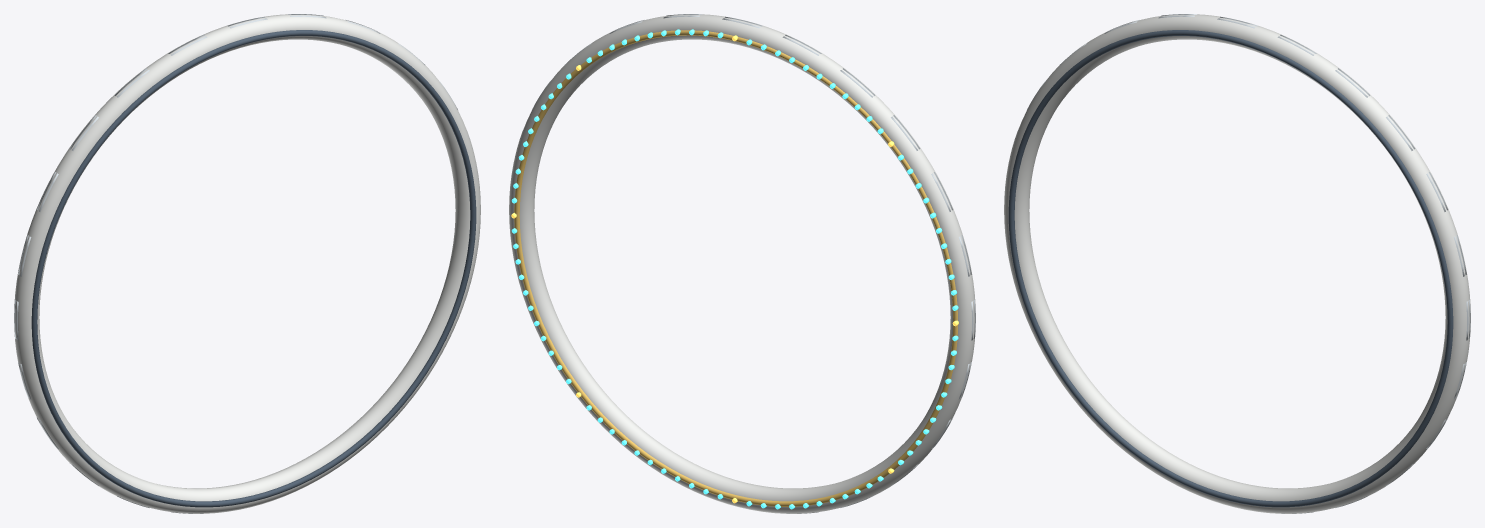
File: L87_02_RotatingHabitatRingMainRotor_Fitted.fbx
3 renders of one model, left to right at view 1: azimuth 30°, elevation 25°; view 2: azimuth 150°, elevation 25°; view 3: azimuth 330°, elevation 25°, orthographic.
Visible parts, largest first — view 1: L87_RotatingHabitatRingMainRotor_ANIM_GRAVITY_RING_MAIN_ROTA (×3); view 2: L87_RotatingHabitatRingMainRotor_ANIM_GRAVITY_RING_MAIN_ROTA (×4); view 3: L87_RotatingHabitatRingMainRotor_ANIM_GRAVITY_RING_MAIN_ROTA (×3).
Boxes of the visible parts, x1=… form: L87_RotatingHabitatRingMainRotor_ANIM_GRAVITY_RING_MAIN_ROTA (×3): x1=14, y1=14, x2=480, y2=513; L87_RotatingHabitatRingMainRotor_ANIM_GRAVITY_RING_MAIN_ROTA (×4): x1=509, y1=14, x2=975, y2=513; L87_RotatingHabitatRingMainRotor_ANIM_GRAVITY_RING_MAIN_ROTA (×3): x1=1004, y1=14, x2=1470, y2=513.
Size of the model in its own units: 105 by 105 by 6.36.
